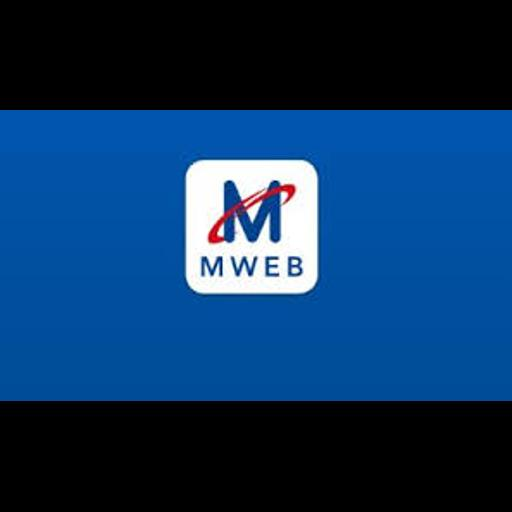MWeb: (0, 110, 512, 401)
